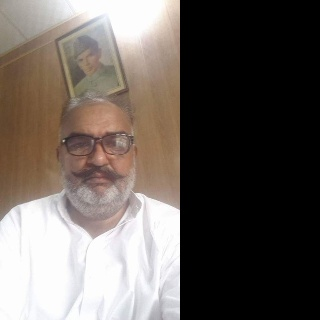without_mask: (58, 104, 135, 215)
